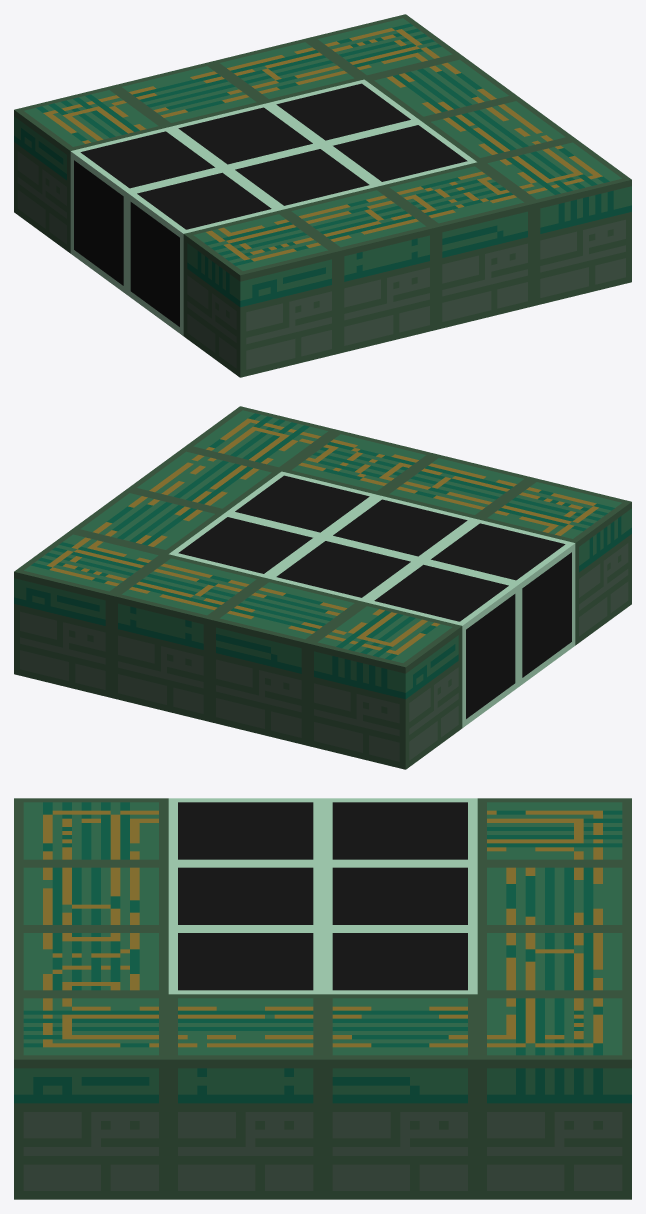
Rendered from m_tiles_6_4x4.fbx.
The picture shows the model from 3 angles, top to bottom: view 1: azimuth 30°, elevation 25°; view 2: azimuth 150°, elevation 25°; view 3: azimuth 270°, elevation 25°; orthographic projection. The views are drawn at different scales.
Parts seen in each view (by area): view 1: m_tiles_6_4x4; view 2: m_tiles_6_4x4; view 3: m_tiles_6_4x4.
Part boxes in pixels (<box>): m_tiles_6_4x4: <box>14,14,631,377</box>; m_tiles_6_4x4: <box>14,406,631,769</box>; m_tiles_6_4x4: <box>14,798,631,1199</box>.
Bounding box in the file's own units: 6.4 × 1.6 × 6.4.
Materials: 1 (1 with a texture image).
